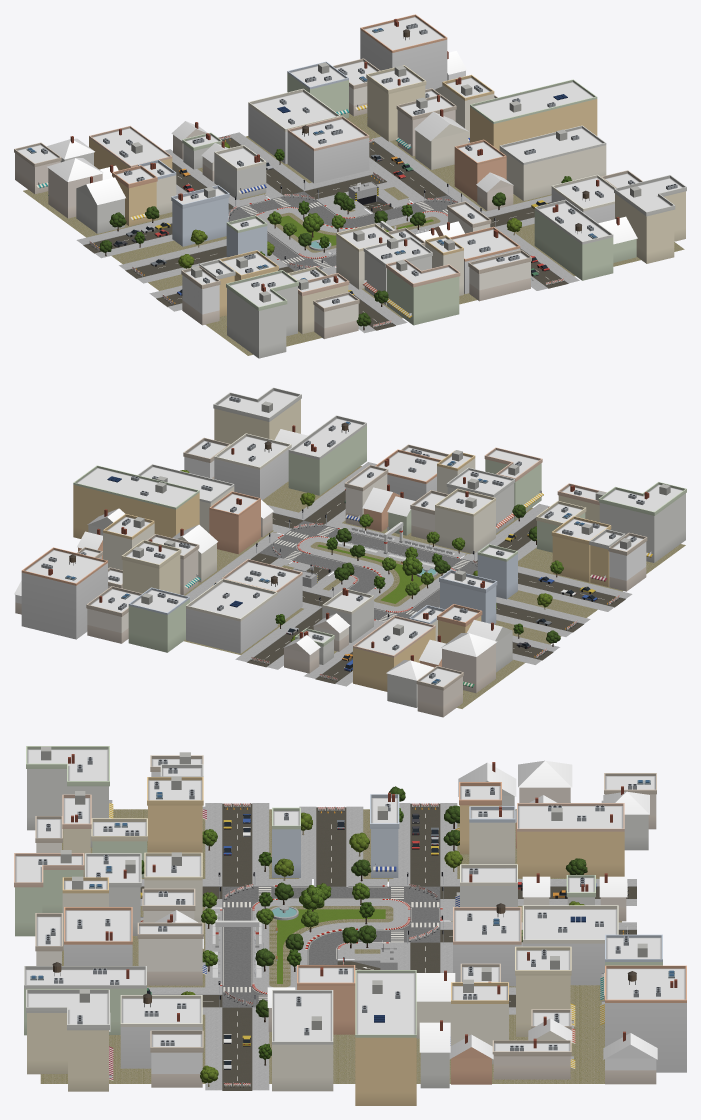
File: city.glb
3 renders of one model, top to bottom at view 1: azimuth 30°, elevation 25°; view 2: azimuth 150°, elevation 25°; view 3: azimuth 270°, elevation 25°, orthographic. The views are drawn at different scales.
Visible parts, largest first — view 1: Haus_fern_k_farbe, Haus_fern_k_fassade_altbau, Haus_fern_k_dach_kies, Haus_fern_k_fassade_riegel, Haus_fern_k_sockel_wohn, Kreuzungen_gehweg, Haus_fern_k_dach_bahn, Haus_fern_k_fassade_buero, Kreuzungen_asphalt_str, Haus_fern_k_fassade_backstein, Boden_pflaster, Haus_nah_k_fassade_putz (+19 smaller); view 2: Haus_fern_k_farbe, Haus_fern_k_dach_kies, Haus_fern_k_fassade_altbau, Haus_fern_k_fassade_buero, Haus_fern_k_fassade_riegel, Kreuzungen_gehweg, Haus_fern_k_dach_bahn, Haus_fern_k_sockel_wohn, Kreuzungen_asphalt_str, Haus_fern_k_fassade_backstein, Boden_pflaster, Haus_nah_k_fassade_putz (+20 smaller); view 3: Haus_fern_k_farbe, Haus_fern_k_dach_kies, Haus_fern_k_fassade_altbau, Haus_fern_k_dach_bahn, Haus_fern_k_fassade_riegel, Kreuzungen_asphalt_str, Haus_fern_k_sockel_wohn, Haus_fern_k_fassade_buero, Kreuzungen_gehweg, Boden_pflaster, Haus_fern_k_dach_ziegel, Fahrbahn_asphalt (+19 smaller).
Part boxes in pixels (x1,y1,x2,y2): Haus_fern_k_farbe: [14, 14, 686, 326]; Haus_fern_k_fassade_altbau: [76, 79, 685, 347]; Haus_fern_k_dach_kies: [17, 66, 682, 306]; Haus_fern_k_fassade_riegel: [89, 99, 613, 285]; Haus_fern_k_sockel_wohn: [15, 102, 685, 358]; Kreuzungen_gehweg: [76, 132, 579, 333]; Haus_fern_k_dach_bahn: [223, 17, 593, 307]; Haus_fern_k_fassade_buero: [248, 30, 614, 293]; Kreuzungen_asphalt_str: [83, 135, 567, 330]; Haus_fern_k_fassade_backstein: [15, 70, 530, 328]; Boden_pflaster: [23, 113, 684, 355]; Haus_nah_k_fassade_putz: [214, 149, 506, 278]; Haus_fern_k_farbe: [21, 387, 686, 694]; Haus_fern_k_dach_kies: [79, 390, 682, 686]; Haus_fern_k_fassade_altbau: [78, 399, 685, 667]; Haus_fern_k_fassade_buero: [21, 447, 436, 653]; Haus_fern_k_fassade_riegel: [73, 425, 475, 680]; Kreuzungen_gehweg: [185, 462, 632, 686]; Haus_fern_k_dach_bahn: [25, 468, 607, 618]; Haus_fern_k_sockel_wohn: [15, 451, 685, 717]; Kreuzungen_asphalt_str: [247, 490, 625, 683]; Haus_fern_k_fassade_backstein: [15, 457, 646, 706]; Boden_pflaster: [183, 466, 685, 708]; Haus_nah_k_fassade_putz: [209, 500, 517, 632]; Haus_fern_k_farbe: [14, 746, 686, 1080]; Haus_fern_k_dach_kies: [15, 749, 661, 1051]; Haus_fern_k_fassade_altbau: [15, 769, 594, 1077]; Haus_fern_k_dach_bahn: [36, 780, 685, 1034]; Haus_fern_k_fassade_riegel: [24, 822, 624, 1091]; Kreuzungen_asphalt_str: [140, 803, 636, 1090]; Haus_fern_k_sockel_wohn: [15, 815, 656, 1105]; Haus_fern_k_fassade_buero: [64, 943, 686, 1072]; Kreuzungen_gehweg: [140, 803, 636, 1090]; Boden_pflaster: [40, 809, 621, 1083]; Haus_fern_k_dach_ziegel: [109, 762, 657, 1059]; Fahrbahn_asphalt: [222, 886, 440, 994].
Size of what is drawn, in the model's own units: 168 by 23.24 by 157.
Materials: 49 (13 with a texture image).
